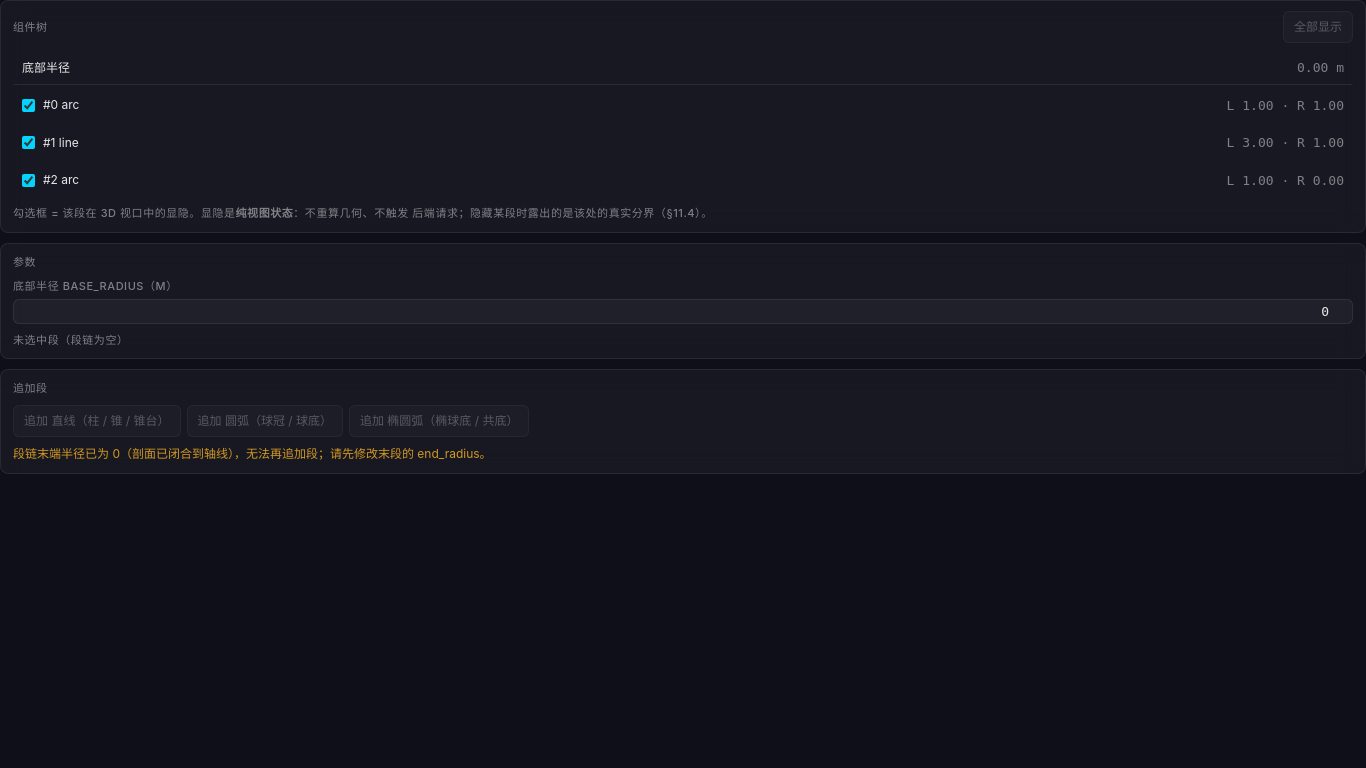
it: M5 六曲线族：下拉与各族参数字段（§5.2 / §5.3） › 抛物线：渲染系数 K 字段（Schema 默认 K=1）
Click the button "#1 line L 3.00 · R 1.00": [61, 142] box [43,133,1344,152]
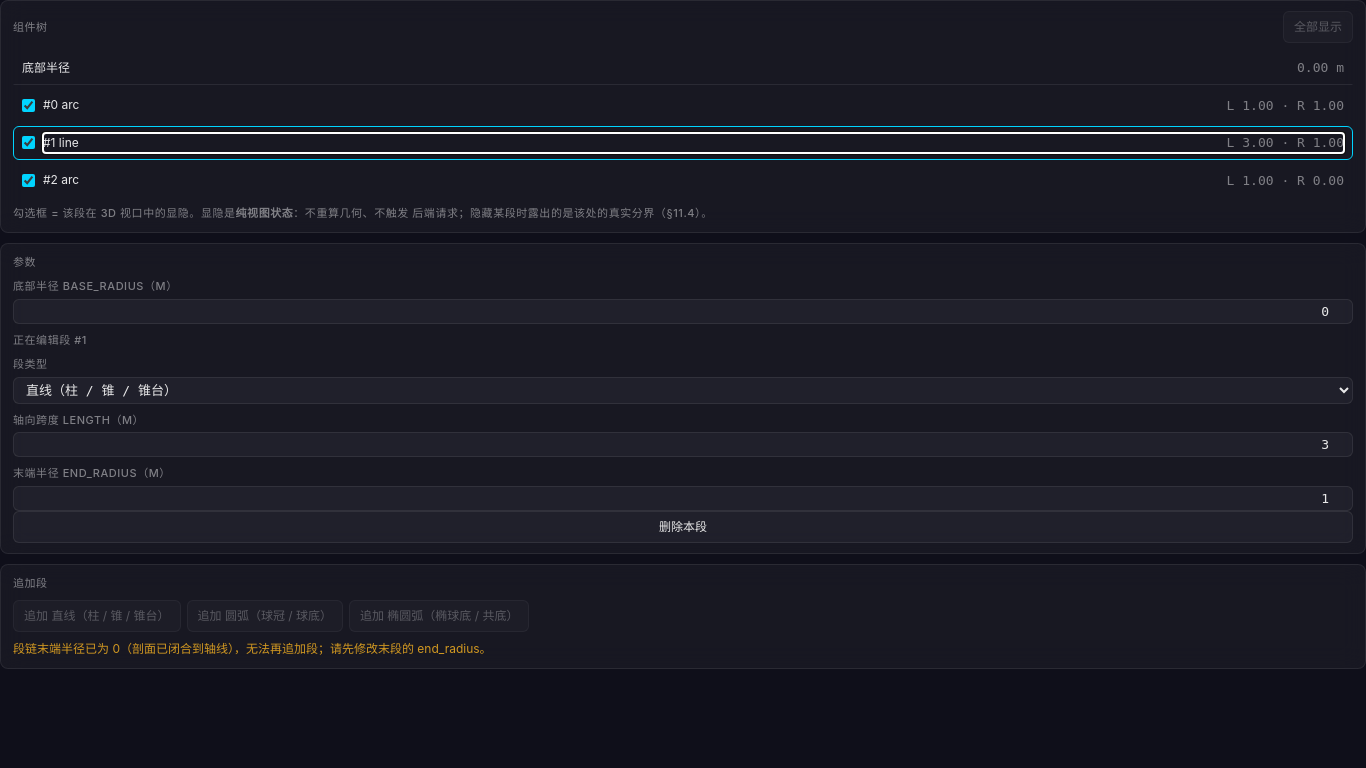
Select "抛物线（头锥）" in the dropdown labelled "段类型": [683, 390] box [13,376,1353,404]
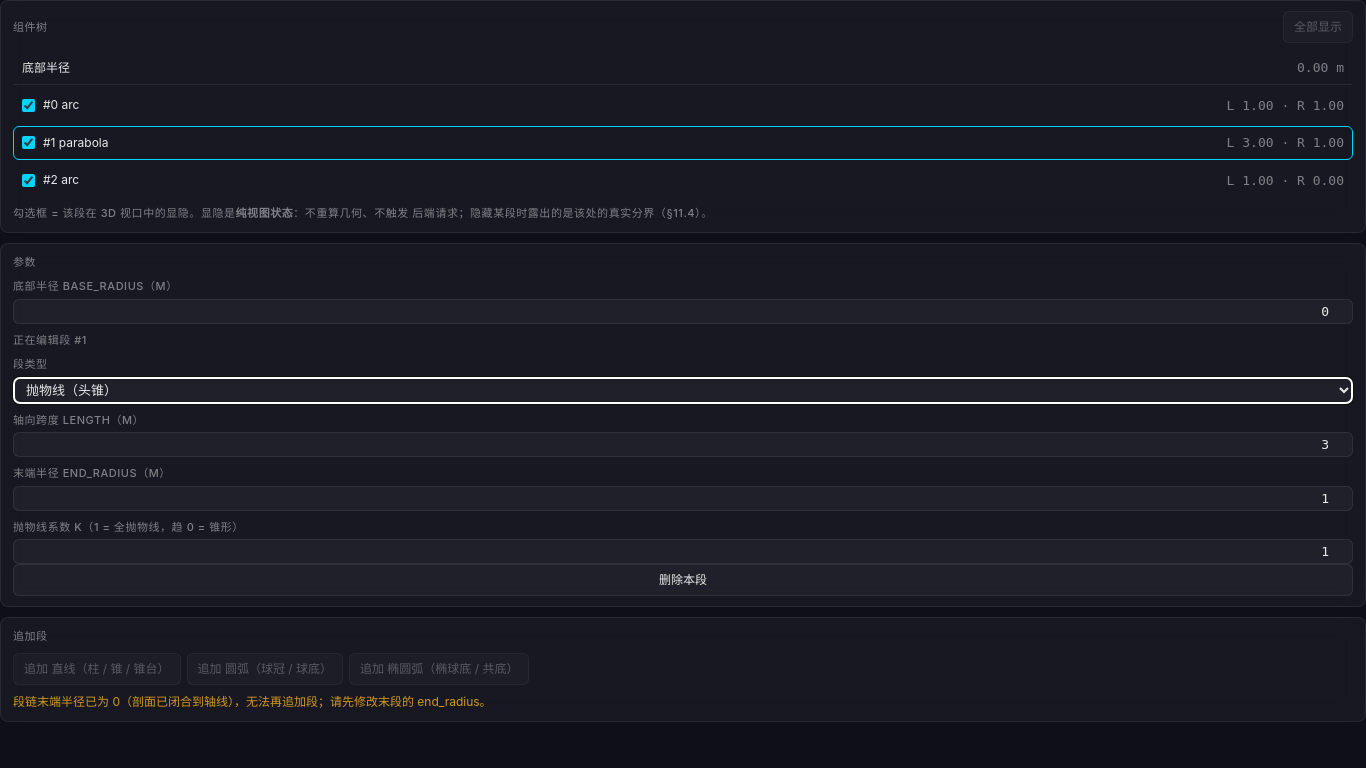
Now the number field labelled "抛物线系数 K（1 = 全抛物线，趋 0 = 锥形）" holds "1", box [13,539,1353,564]
